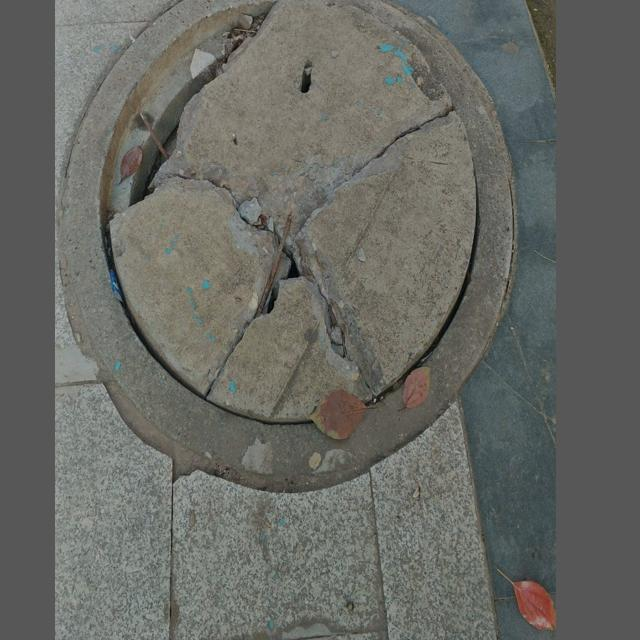broke: (59, 0, 514, 498)
